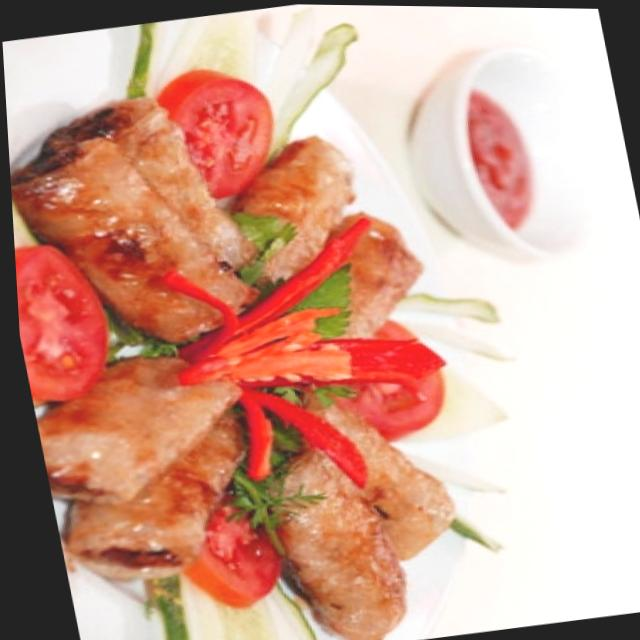炸货点心: (0, 0, 546, 640)
